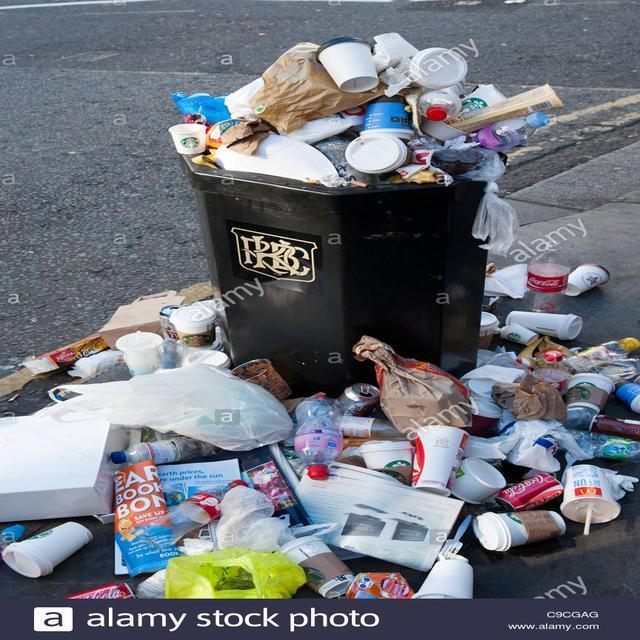garbage: (65, 347, 311, 596), (241, 385, 616, 545), (183, 30, 535, 180), (472, 250, 618, 515), (93, 281, 200, 379), (326, 552, 462, 591)
